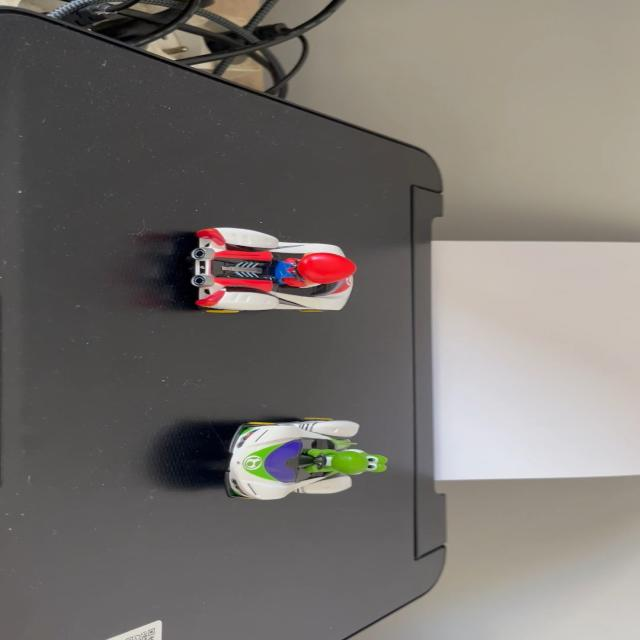mario: (176, 223, 360, 319)
yoshi: (214, 411, 404, 512)
